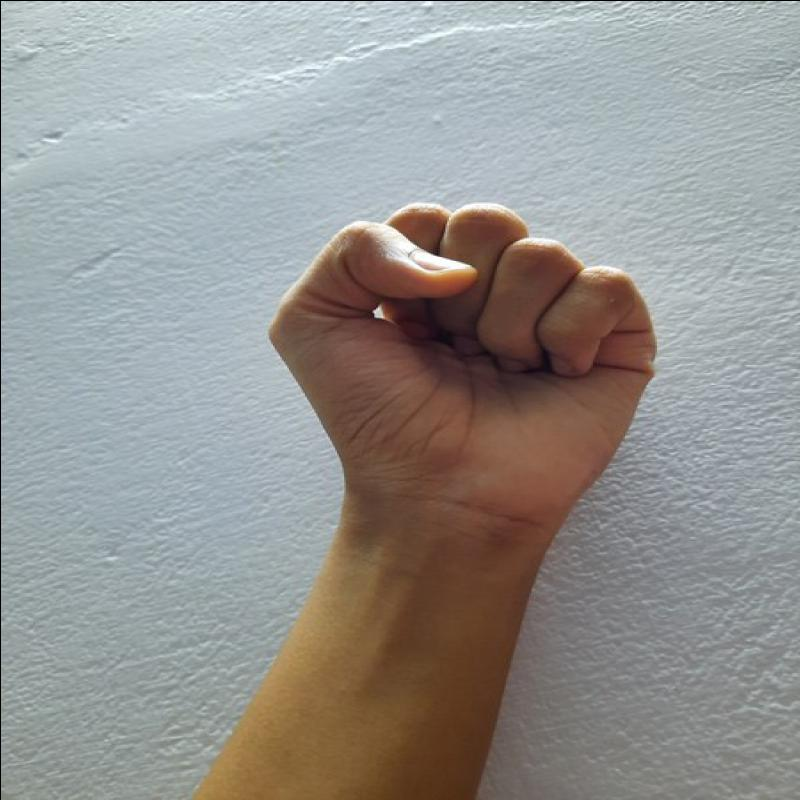Mushti: (261, 190, 673, 561)
